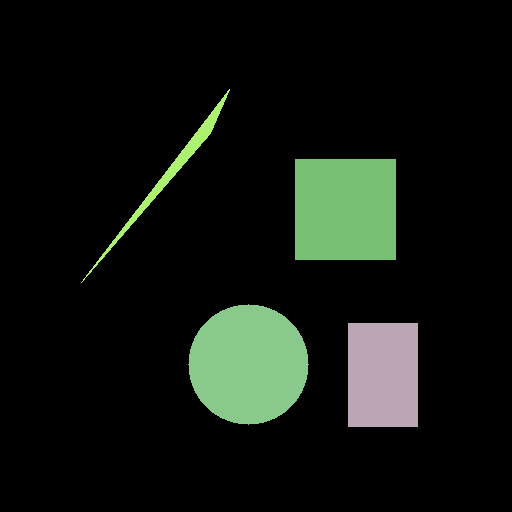circle: (188, 304, 308, 424)
rectangle: (348, 323, 417, 426)
square: (295, 159, 395, 259)
triangle: (81, 89, 229, 282)
